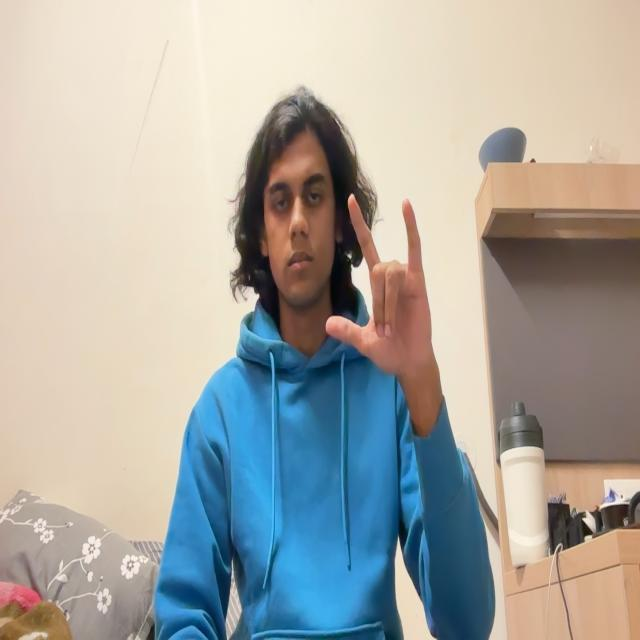Iloveyou: (322, 197, 444, 388)
